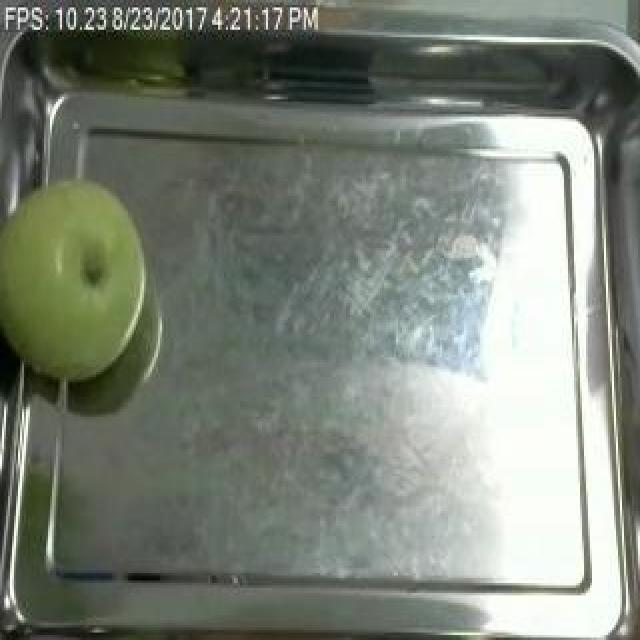Rotten Apple: (4, 177, 152, 376)
